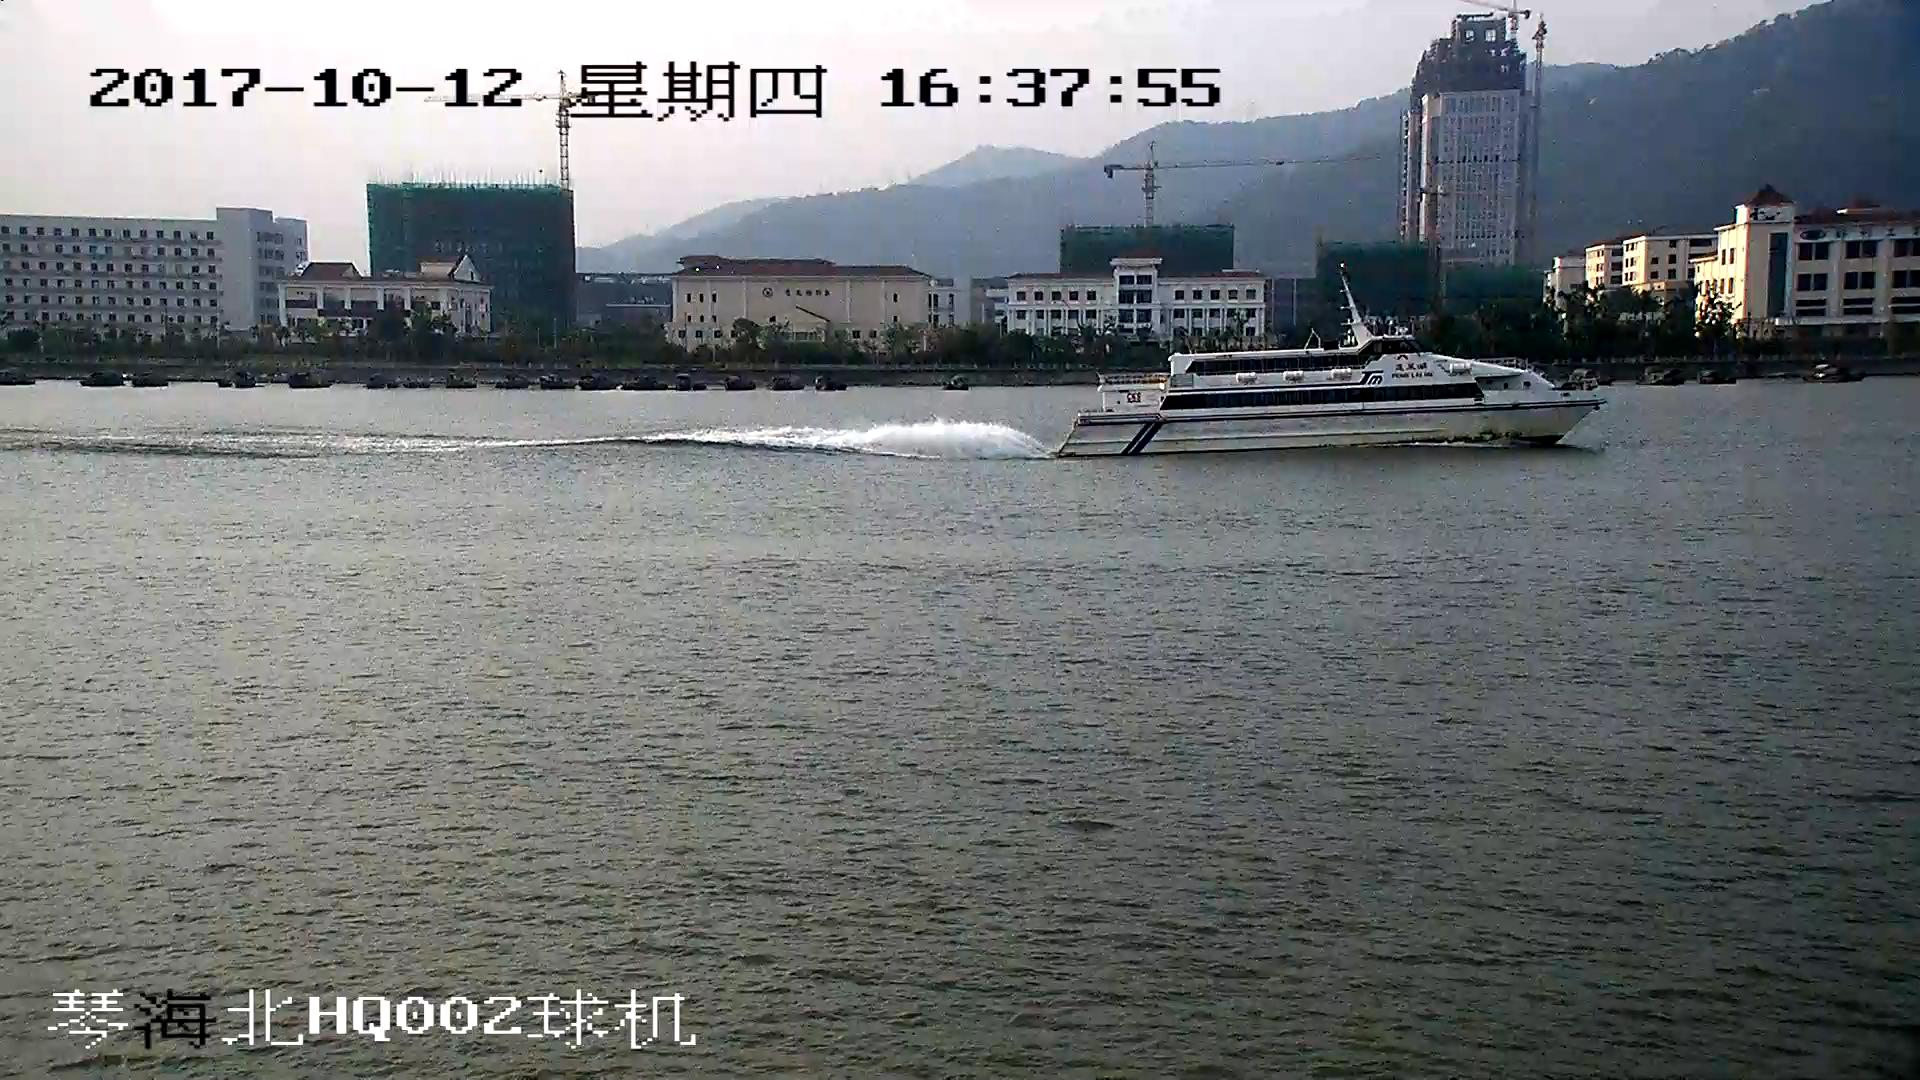passenger ship: (1059, 265, 1600, 456)
